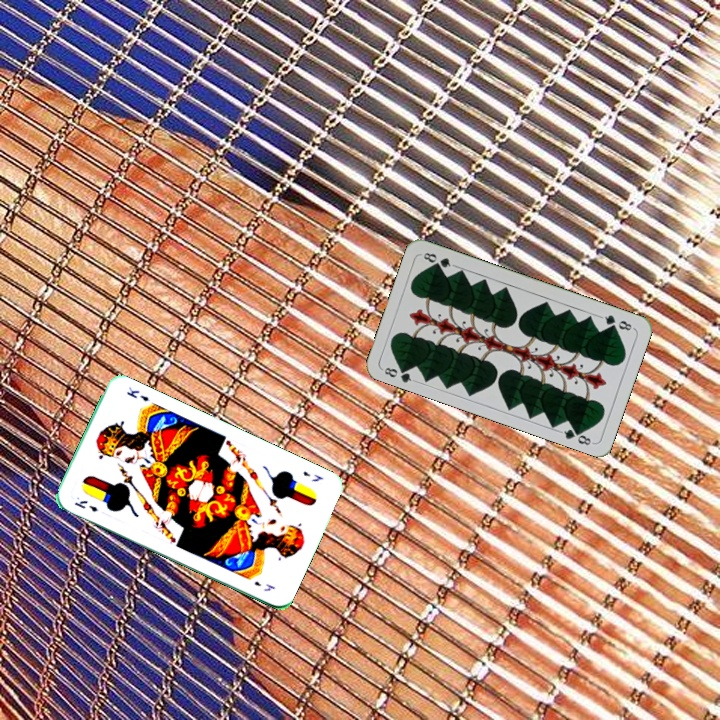EK: (71, 496, 100, 515), (299, 467, 326, 484)
G8: (380, 362, 418, 385), (597, 311, 636, 333)
